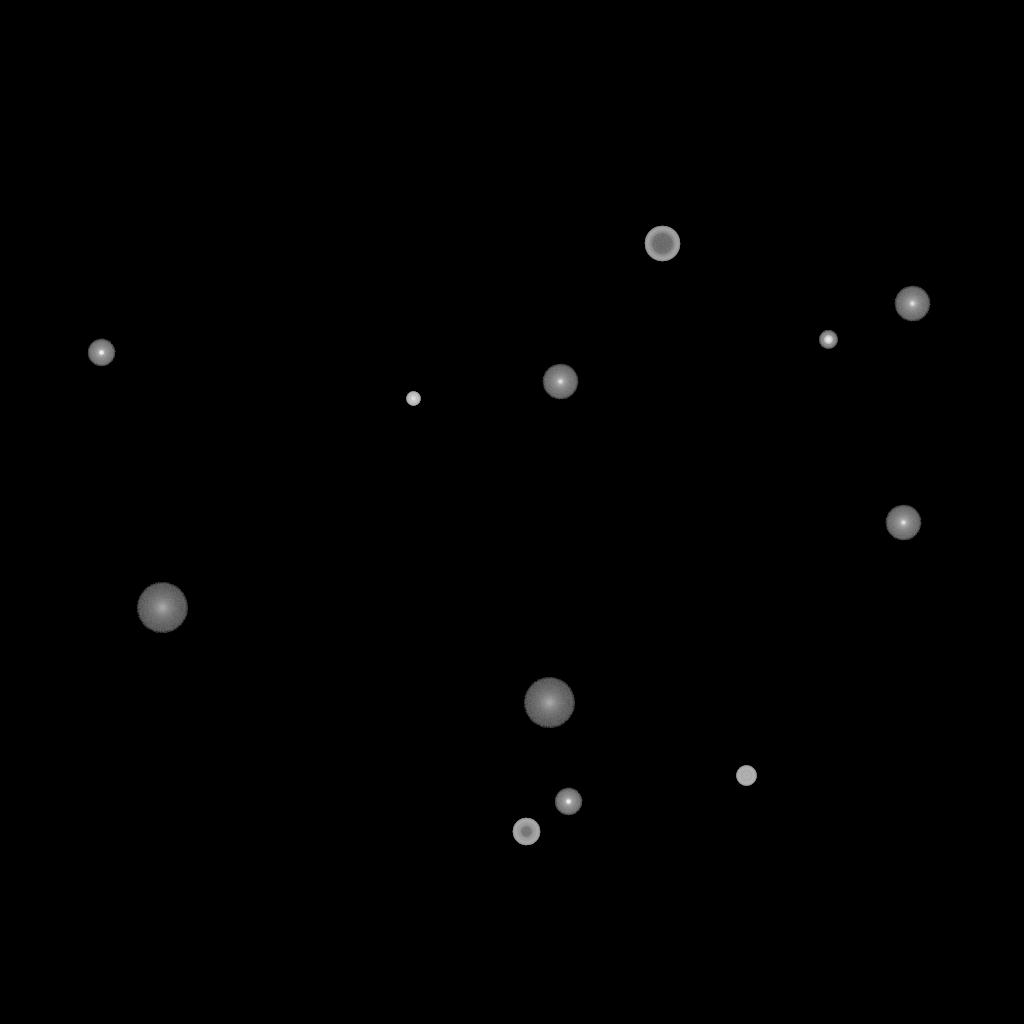depth:-10: (87, 339, 115, 367), (554, 788, 582, 816)
depth:-20: (819, 331, 837, 349)
depth:-30: (406, 392, 420, 406)
depth:-40: (736, 766, 756, 786)
depth:-50: (512, 818, 540, 846)
depth:-60: (644, 226, 680, 262)
depth:0: (894, 286, 930, 322), (885, 505, 921, 541), (542, 364, 578, 400)
depth:20: (523, 678, 575, 728), (136, 583, 188, 633)
